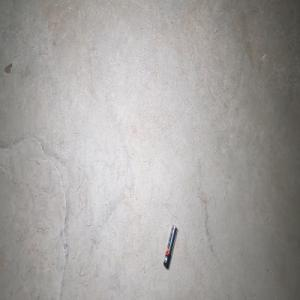Battery: (163, 223, 177, 269)
